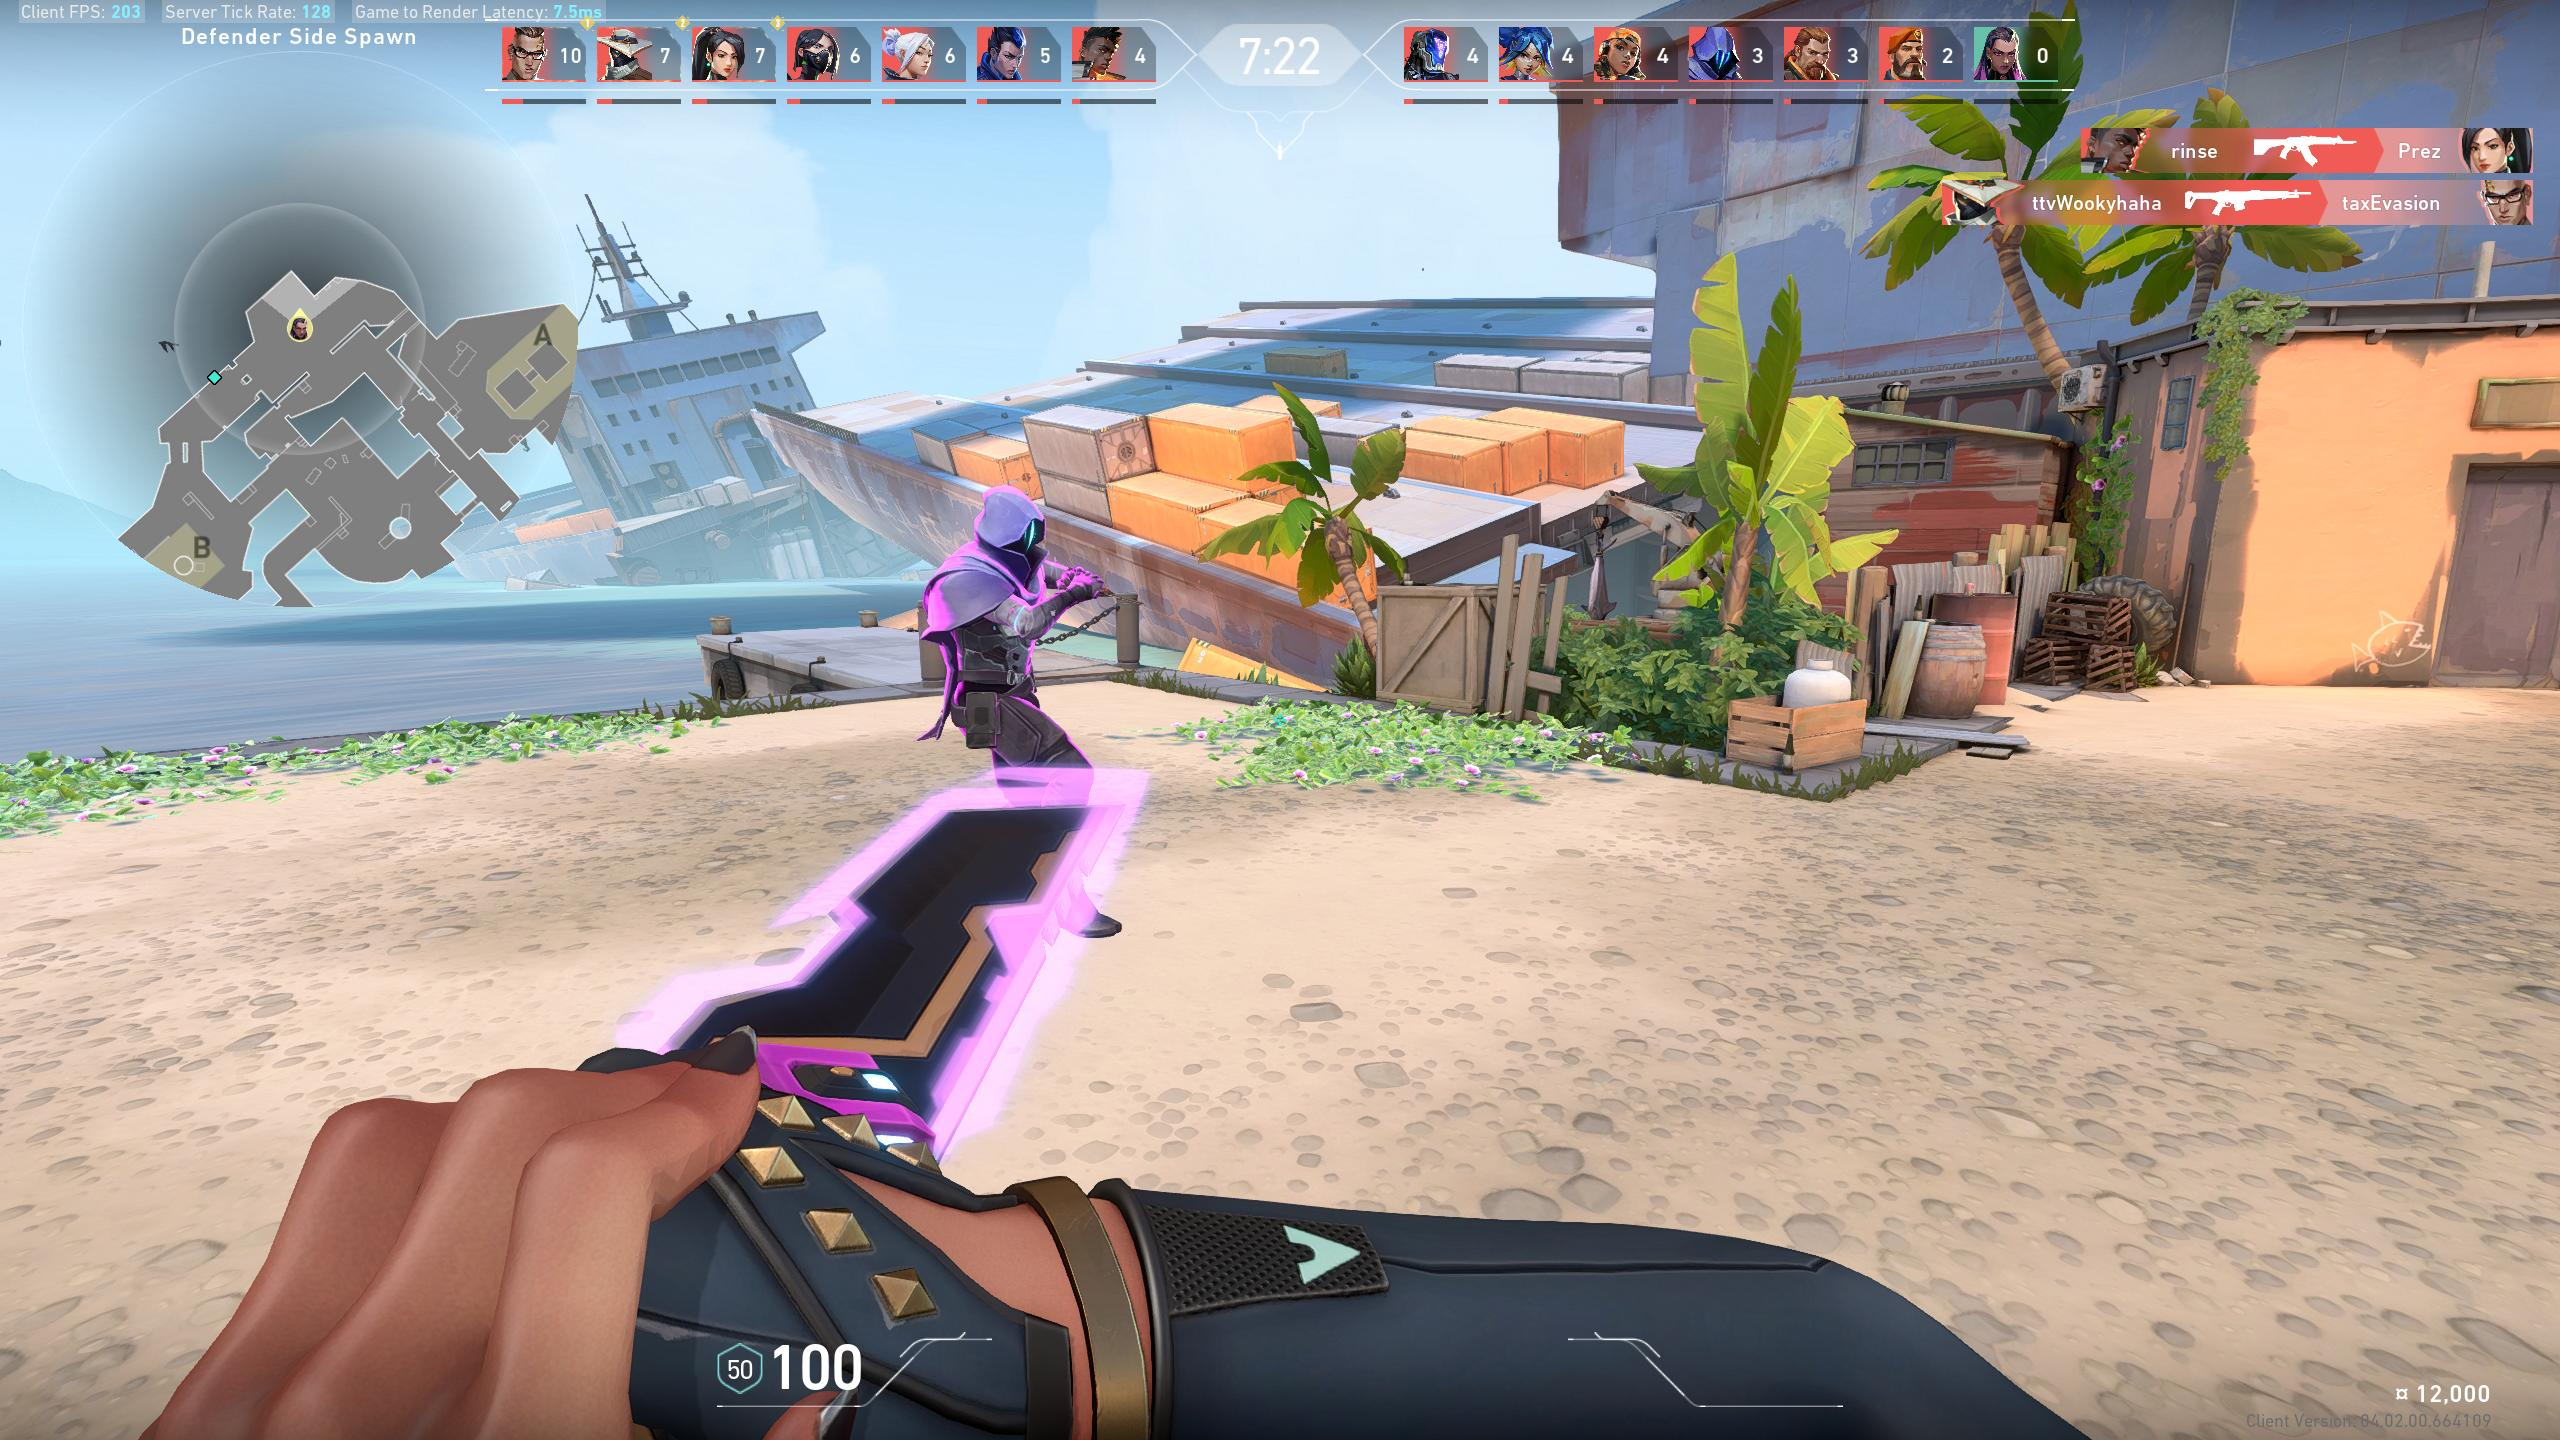enemyBody: (953, 570, 1015, 721)
enemyHead: (992, 499, 1036, 563)
